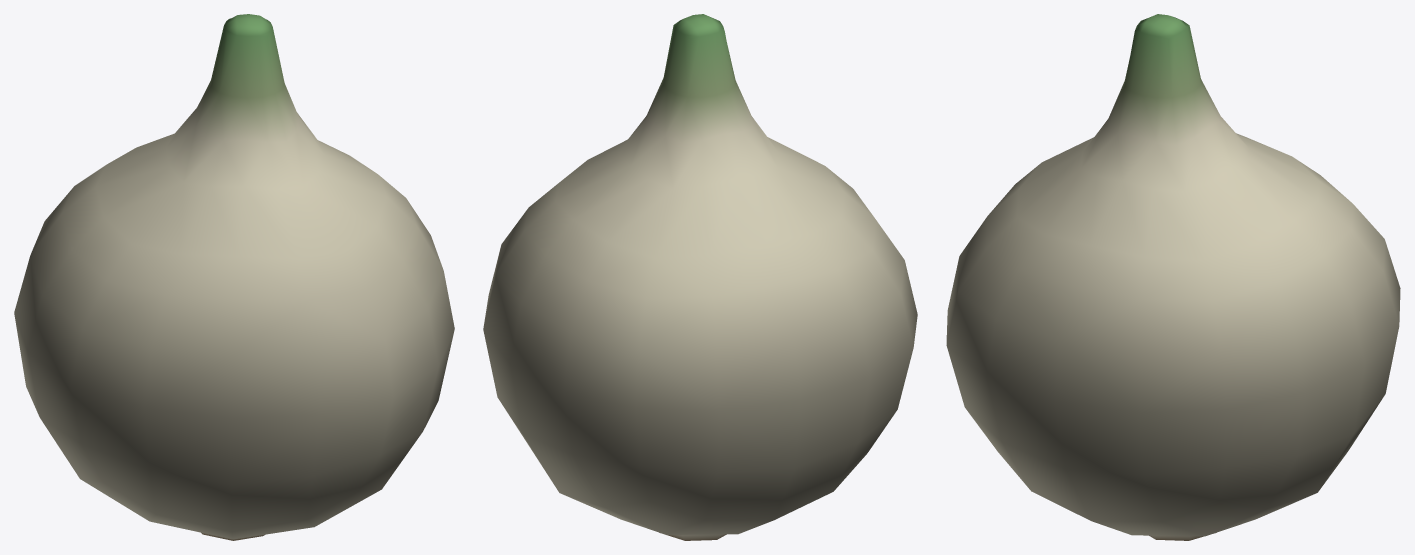
File: consumables-vegetables-whiteonion_v1.glb
The picture shows the model from 3 angles, left to right: view 1: azimuth 30°, elevation 25°; view 2: azimuth 150°, elevation 25°; view 3: azimuth 270°, elevation 25°; orthographic projection. The views are drawn at different scales.
Parts seen in each view (by area): view 1: WhiteOnion.001; view 2: WhiteOnion.001; view 3: WhiteOnion.001.
Part boxes in pixels (x1,y1,x2,y2): WhiteOnion.001: [14, 14, 454, 540]; WhiteOnion.001: [483, 14, 917, 540]; WhiteOnion.001: [946, 14, 1400, 540].
Bounding box in the file's own units: 0.0829 × 0.1061 × 0.0857.
